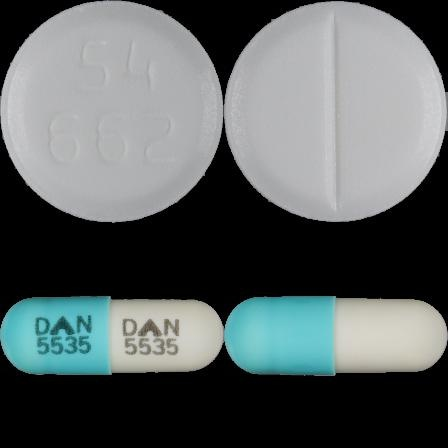54868-3157: (0, 0, 224, 224)
